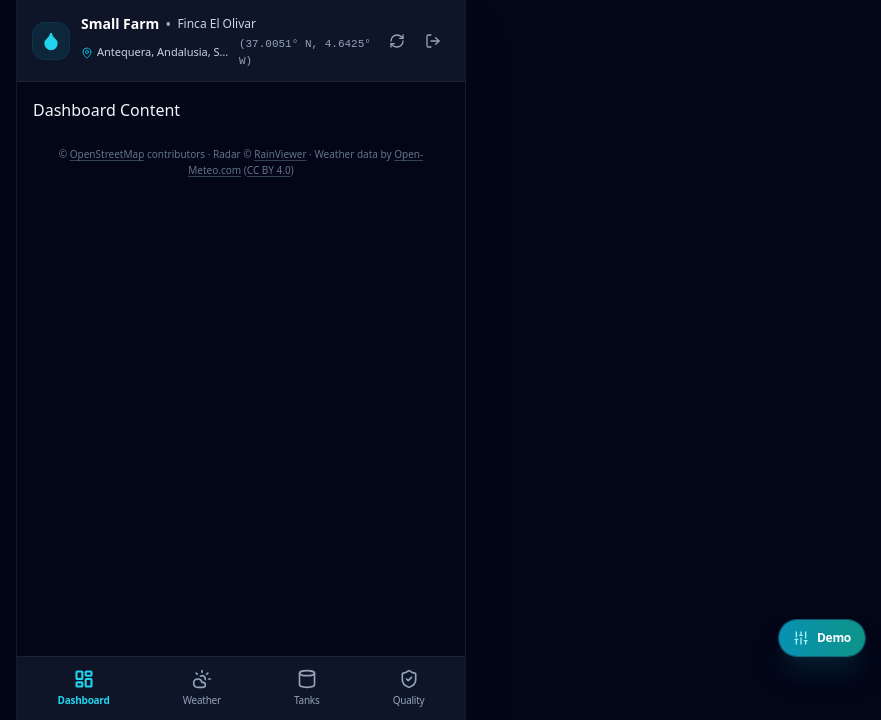
it: AppShell Seam › switches to tab view placeholder when a different navigation tab is selected
Note: Click Weather tab
Click the button "Weather" at (202, 688), box [175,665,229,712]
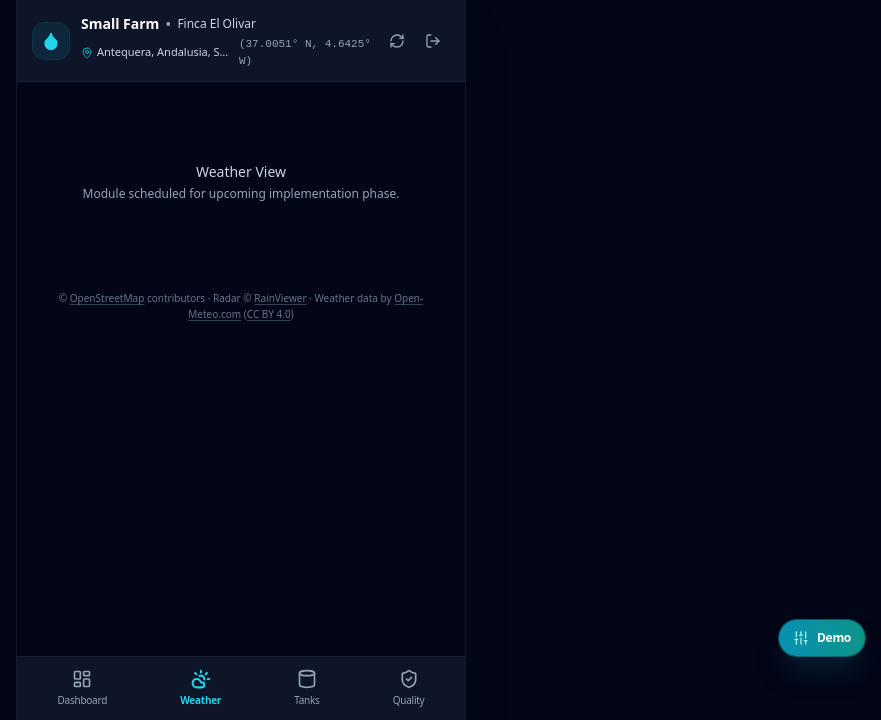
Check: the text "Weather View" is shown, box [196,162,286,182]
